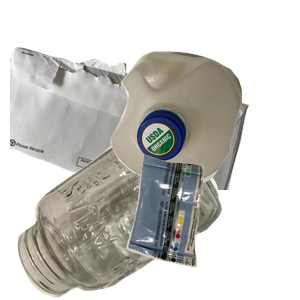glass: (15, 126, 229, 300)
paper: (10, 45, 250, 225)
plastic: (108, 49, 300, 226)
trash: (124, 152, 300, 300)
